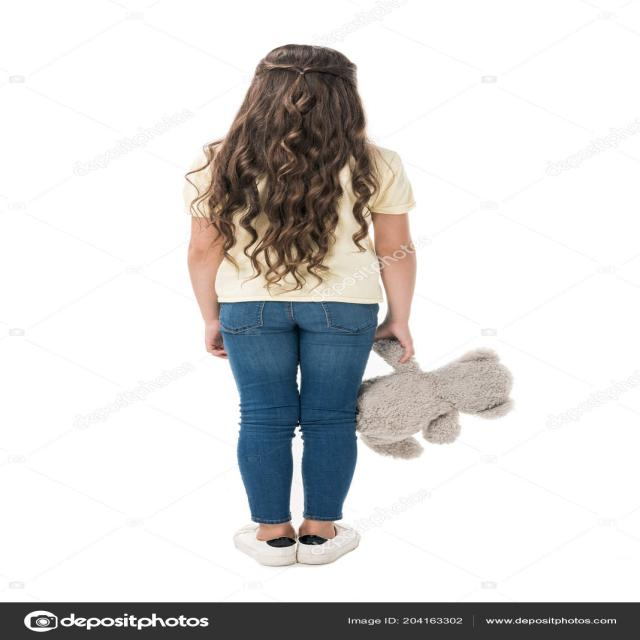child: (183, 41, 416, 572)
